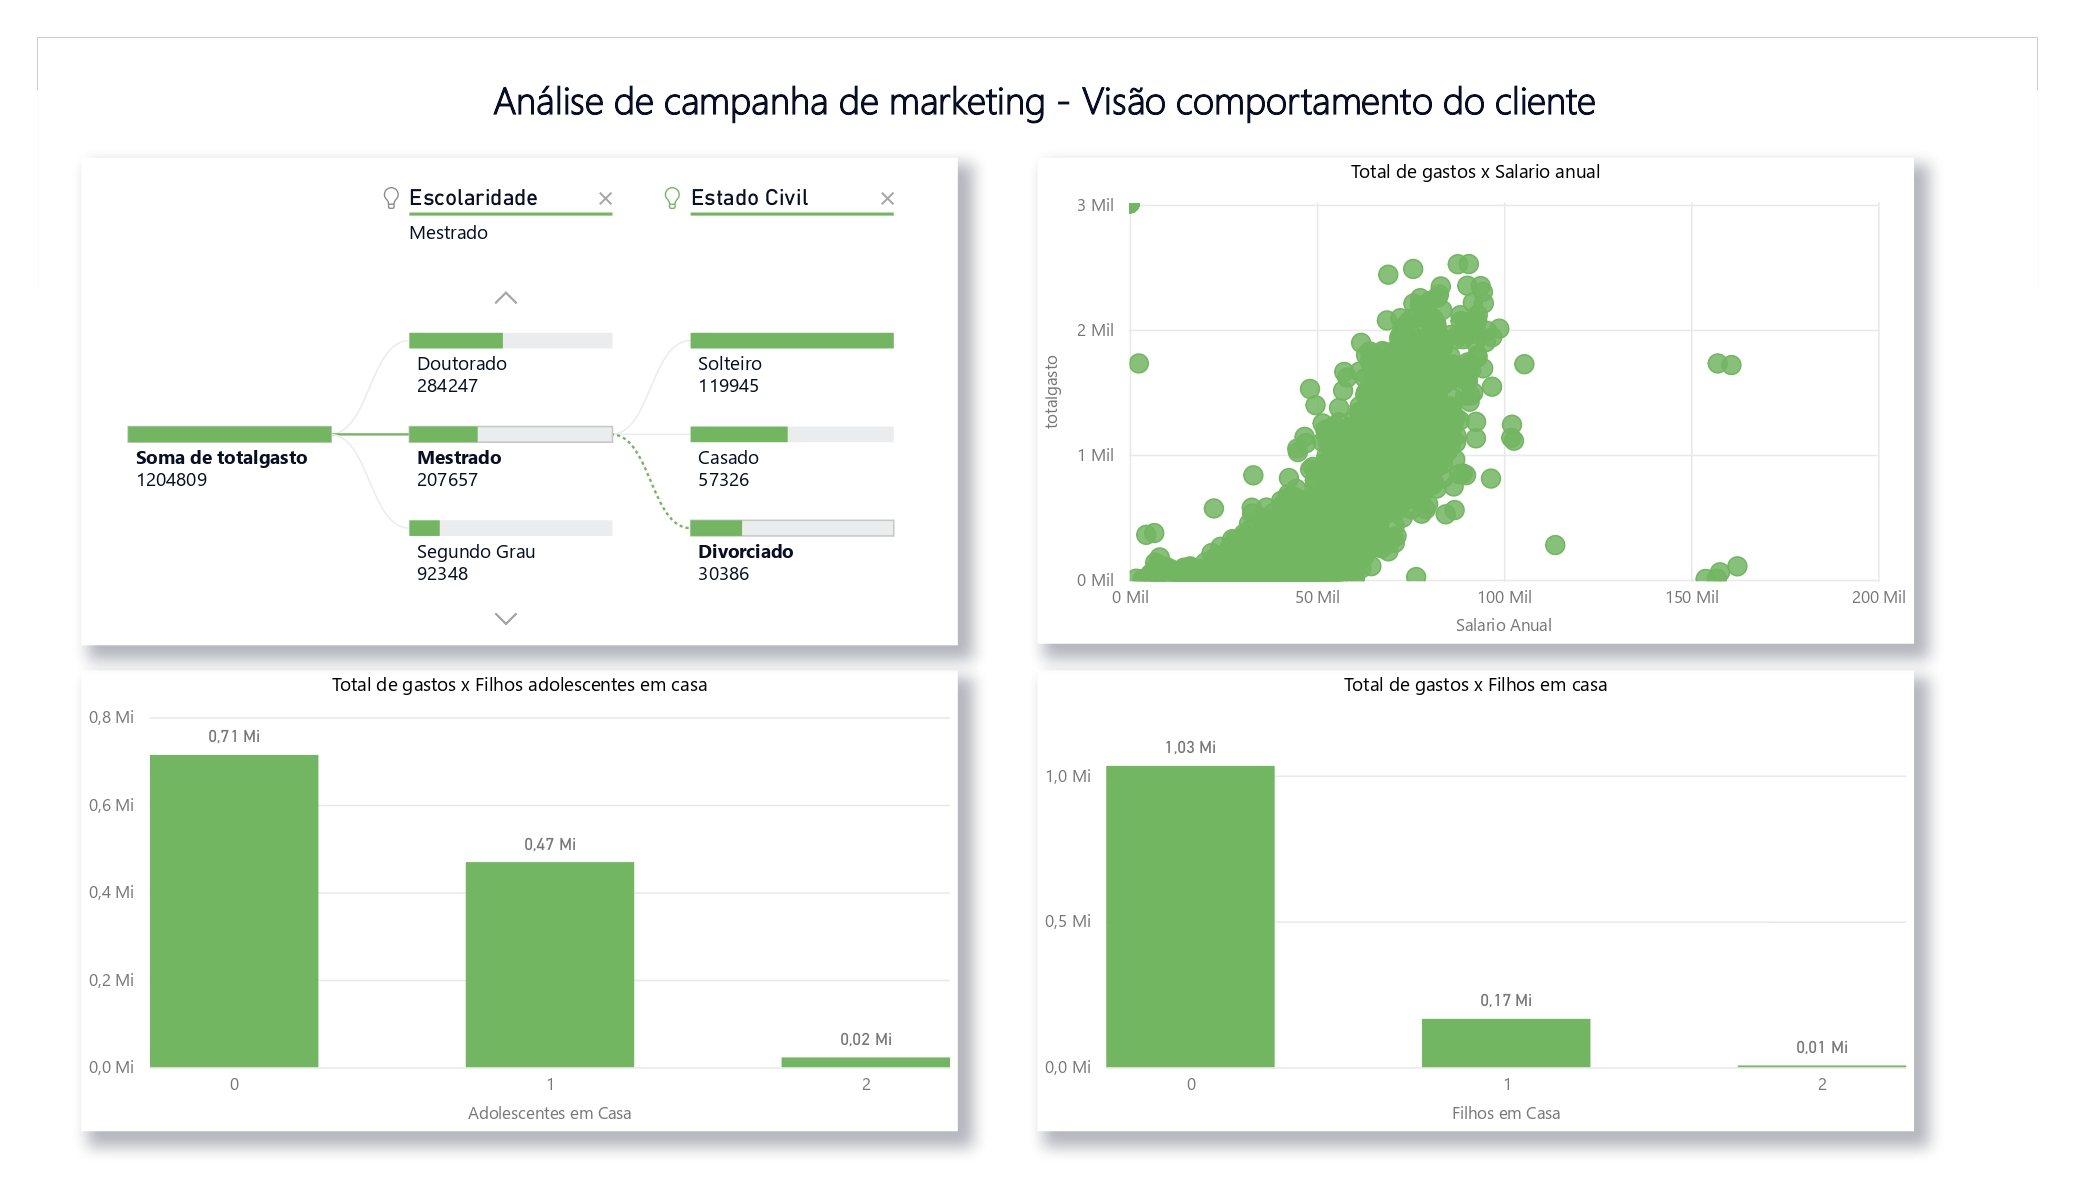

What the dashboard file says about the page in this screenshot:
{"tool":"powerbi","page":{"name":"Visão comportamento","canvas":[1280,720],"ordinal":1},"visuals":[{"type":"scatterChart","title":"Total de gastos x Salario anual","fields":{"X":["dadosmarketing.Salario Anual"],"Y":["dadosmarketing.totalgasto"]},"box":[640,76.5,560.6,311.9],"z":0},{"type":"textbox","box":[150.1,17.7,988.7,48.6],"z":1},{"type":"columnChart","title":"Total de gastos x Filhos em casa","fields":{"Y":["Sum(dadosmarketing.totalgasto)"],"Category":["dadosmarketing.Filhos em Casa"]},"box":[640,404.6,560.6,295.7],"z":2},{"type":"columnChart","title":"Total de gastos x Filhos adolescentes em casa ","fields":{"Y":["Sum(dadosmarketing.totalgasto)"],"Category":["dadosmarketing.Adolescentes em Casa"]},"box":[28,404.6,560.6,295.7],"z":3},{"type":"decompositionTreeVisual","fields":{"Analyze":["Sum(dadosmarketing.totalgasto)"],"ExplainBy":["dadosmarketing.Escolaridade","dadosmarketing.Estado Civil"]},"box":[28,77,561,312],"z":4}]}

Visuals, with their boxes on the page's 1280x720 design canvas (x1, y1, x2, y2). These are canvas units, not pixel positions in the 2075x1200 screenshot, which may show the page scaled, cropped or inside an application window:
"Total de gastos x Salario anual" scatterChart: locate(640, 76, 1201, 388)
textbox: locate(150, 18, 1139, 66)
"Total de gastos x Filhos em casa" columnChart: locate(640, 405, 1201, 700)
"Total de gastos x Filhos adolescentes em casa " columnChart: locate(28, 405, 589, 700)
decompositionTreeVisual - Sum(dadosmarketing.totalgasto) x dadosmarketing.Escolaridade: locate(28, 77, 589, 389)
